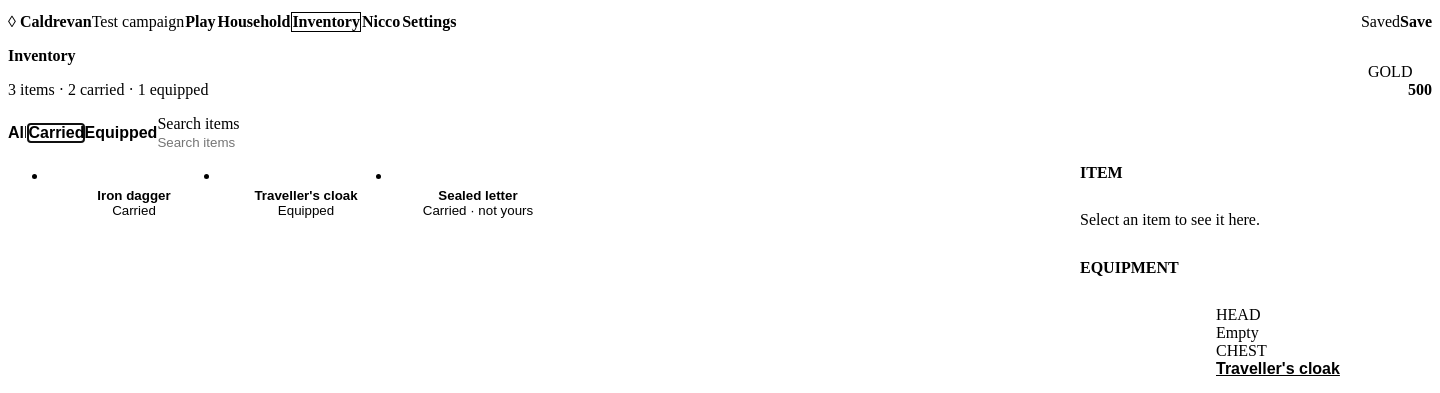
Test: Inventory page › UI2-2 filters All / Carried / Equipped by the position the read model reports, with keyboard-operable pressed buttons
The image size is (1440, 393).
Expected: the heading "Inventory" is shown, [8,47,76,64]
Press Enter
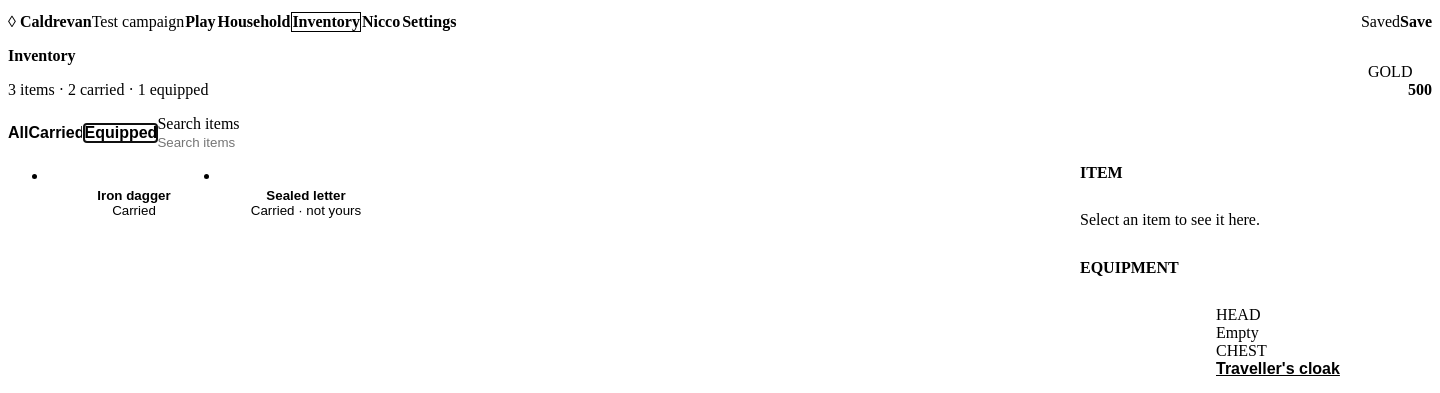
Result: the button "Carried" is pressed at [28,124,84,142]
Type keys " "
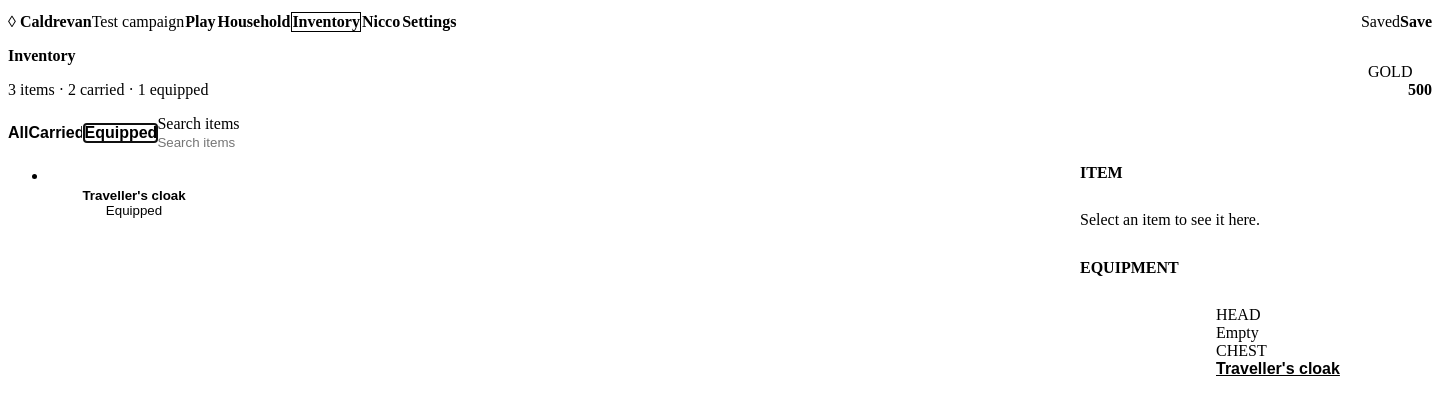
Click the button "All" at {"x": 18, "y": 133}, box [8,124,28,142]
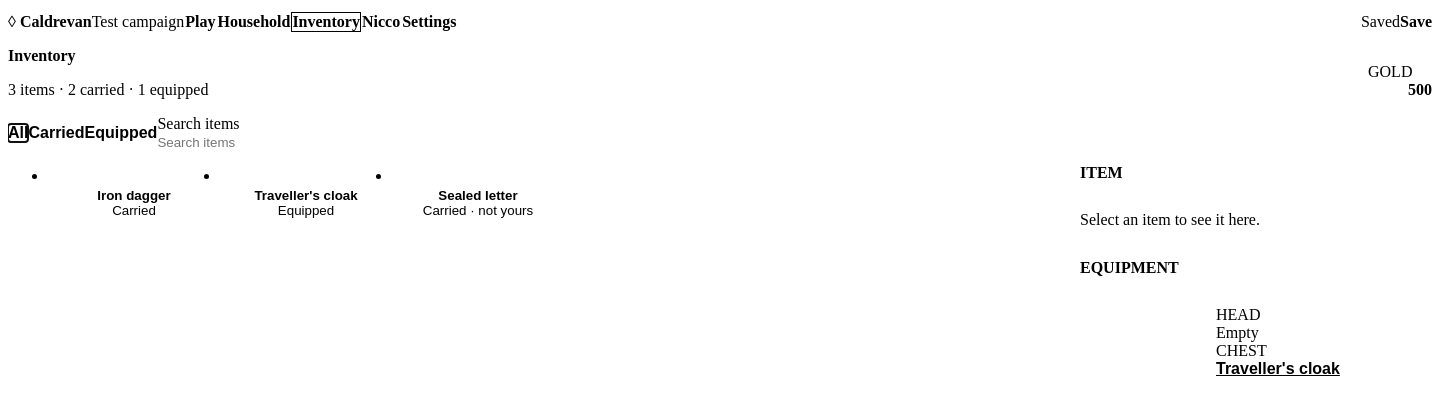
Type "zzz" into the search field labelled "Search items" at {"x": 333, "y": 142}, box [157,135,509,150]
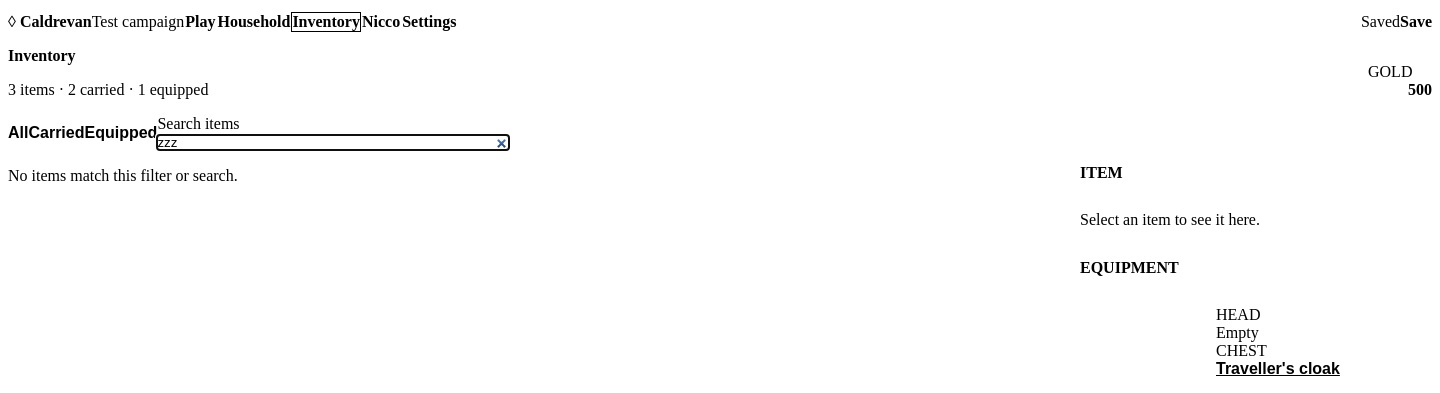
Result: the text "No items match this filter or search." is shown at [8,167,238,184]
